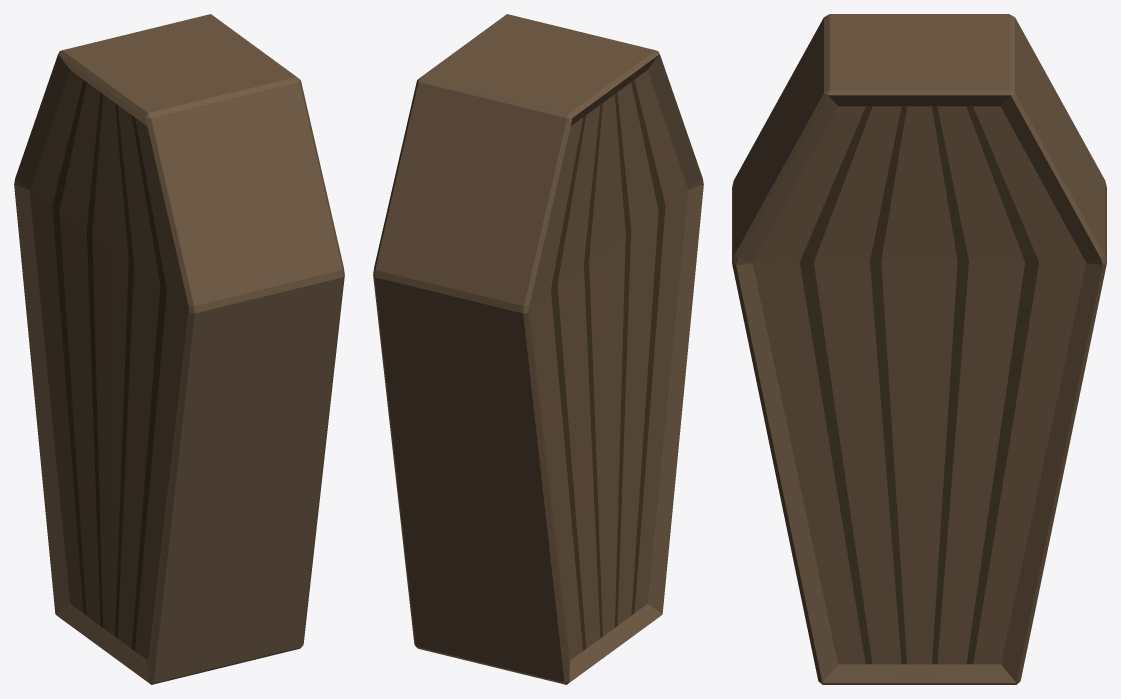
Rendered from coffin.fbx.
3 renders of one model, left to right at view 1: azimuth 30°, elevation 25°; view 2: azimuth 150°, elevation 25°; view 3: azimuth 270°, elevation 25°, orthographic. The views are drawn at different scales.
Visible parts, largest first — view 1: Cube; view 2: Cube; view 3: Cube.
Boxes of the visible parts, <box> form: Cube: <box>14,14,344,684</box>; Cube: <box>373,14,703,684</box>; Cube: <box>732,14,1106,684</box>.
Bounding box in the file's own units: 100 × 350 × 200.
